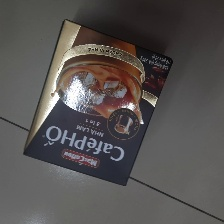CF pho: (21, 18, 175, 187)
